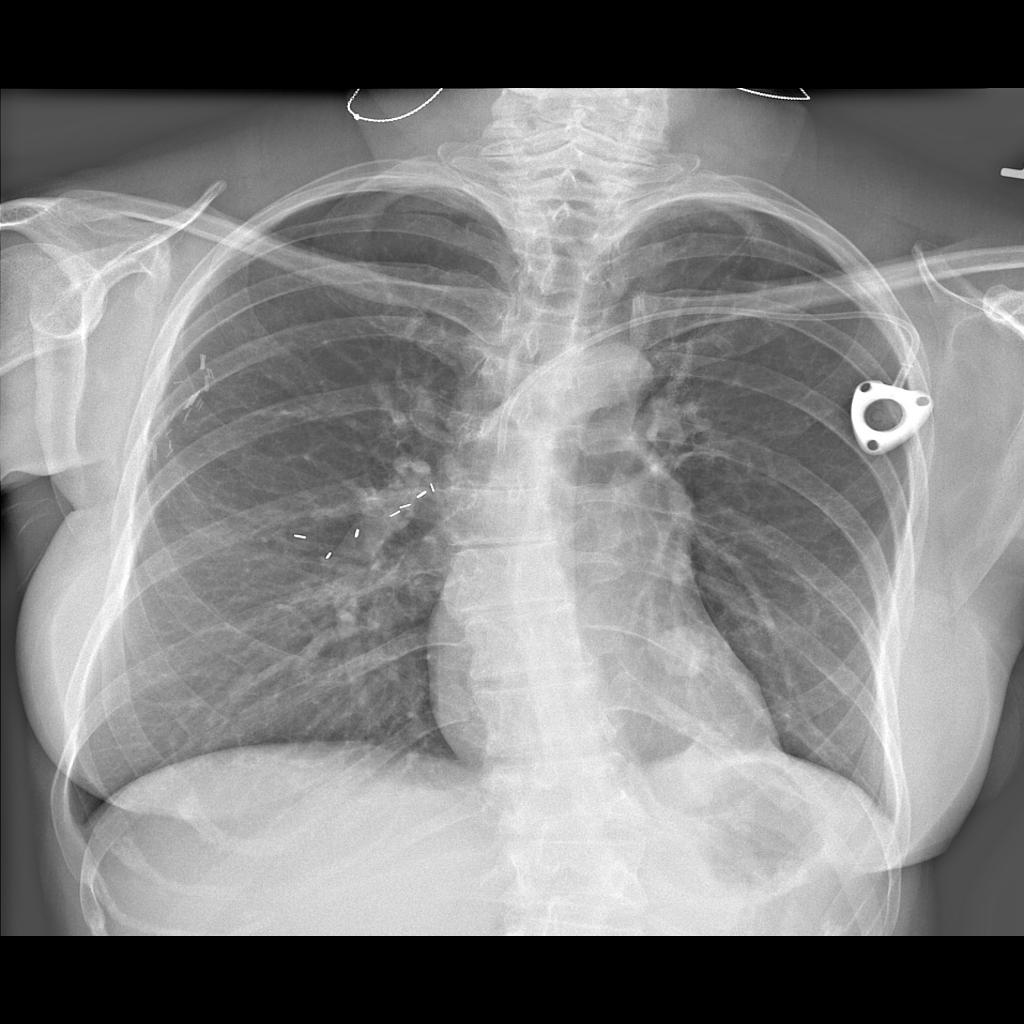Nodule: (643, 619, 711, 689)
